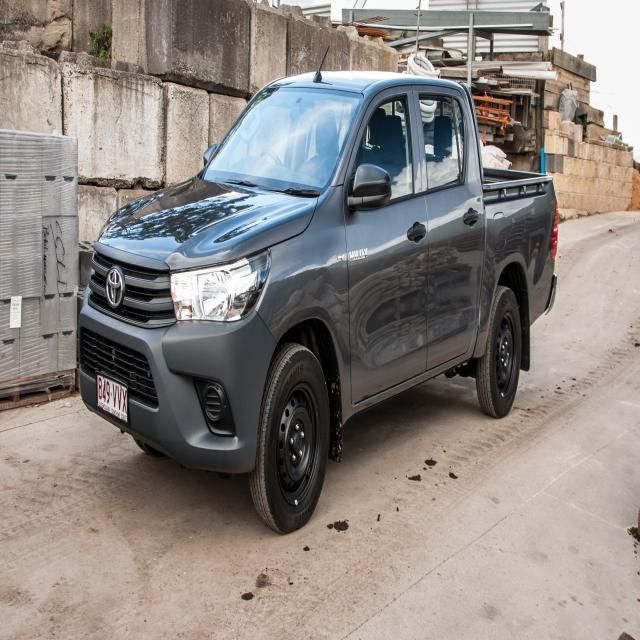light_vehicle: (70, 50, 564, 535)
